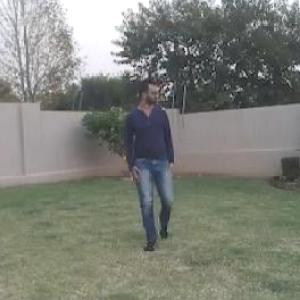follow: (124, 66, 177, 246)
